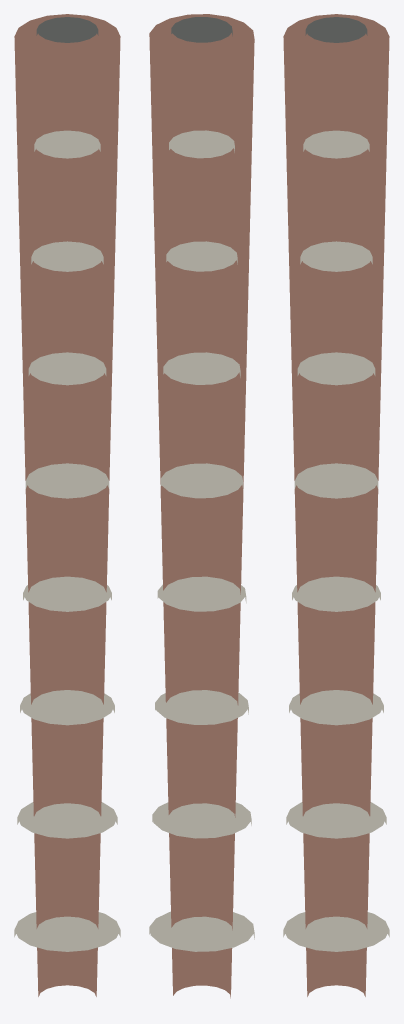
The model's file is b_silo.glb.
The picture shows the model from 3 angles, left to right: view 1: azimuth 90°, elevation 25°; view 2: azimuth 150°, elevation 25°; view 3: azimuth 270°, elevation 25°; orthographic projection.
Visible parts, largest first — view 1: body; view 2: body; view 3: body.
Part boxes in pixels (x1,y1,x2,y2): body: (14,14,120,996); body: (149,14,254,998); body: (283,14,389,996).
Size of the model in its own units: 6 by 60.4 by 6.
